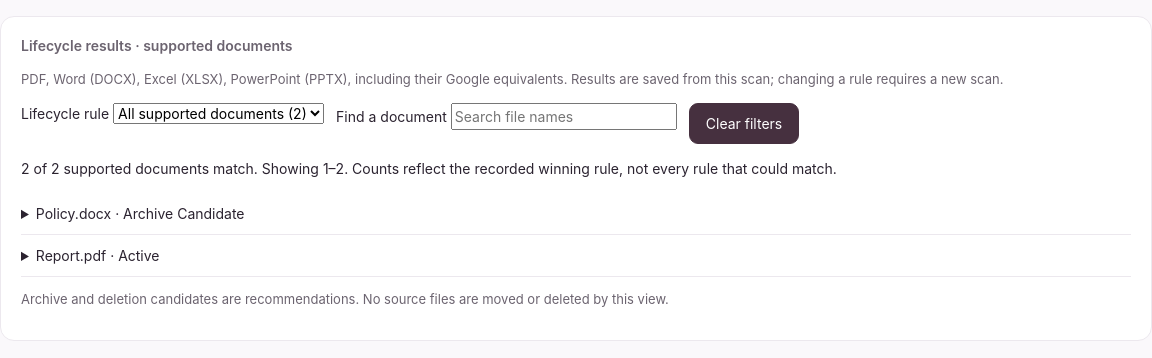
filters supported files by enabled winning rule and reveals saved metadata
This screenshot has width=1152, height=358.
Select "Old policies (1)" in the dropdown labelled "Lifecycle rule" at {"x": 219, "y": 113}, box [113,102,324,124]
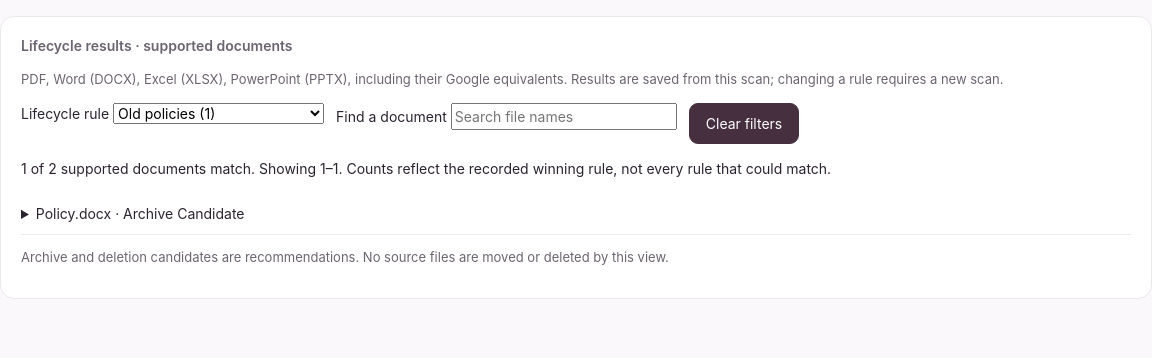
Result: the text "Report.pdf" is gone
Click the button "Clear filters" at {"x": 744, "y": 123}, box [689,102,799,144]
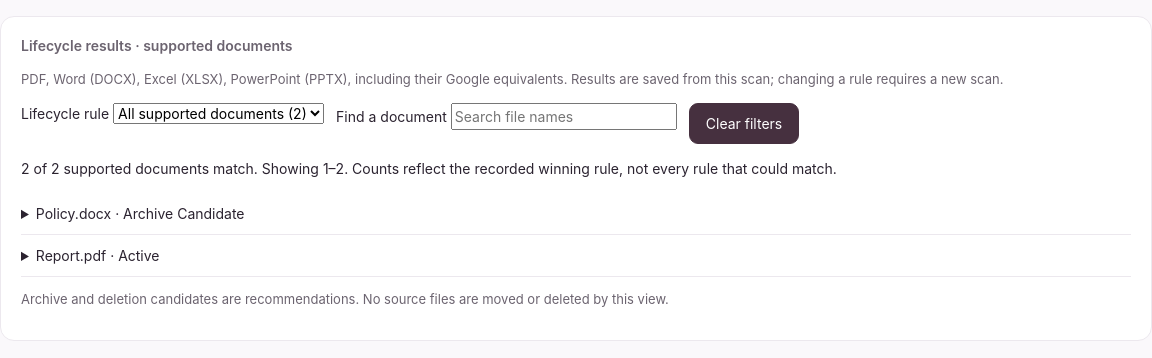
Result: the text "Report.pdf" is shown at [36,246,160,264]
